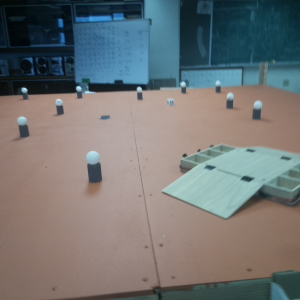blockD: (167, 97, 174, 107)
corner: (259, 61, 267, 85)
obstacle: (86, 148, 103, 181), (17, 117, 29, 140), (252, 100, 262, 119), (226, 92, 234, 109), (55, 99, 63, 116), (75, 85, 82, 100), (180, 81, 186, 95), (136, 87, 143, 99), (215, 80, 221, 93), (22, 86, 27, 99)
side: (272, 176, 300, 207)
slope: (165, 166, 250, 215)
start: (100, 112, 112, 124)
